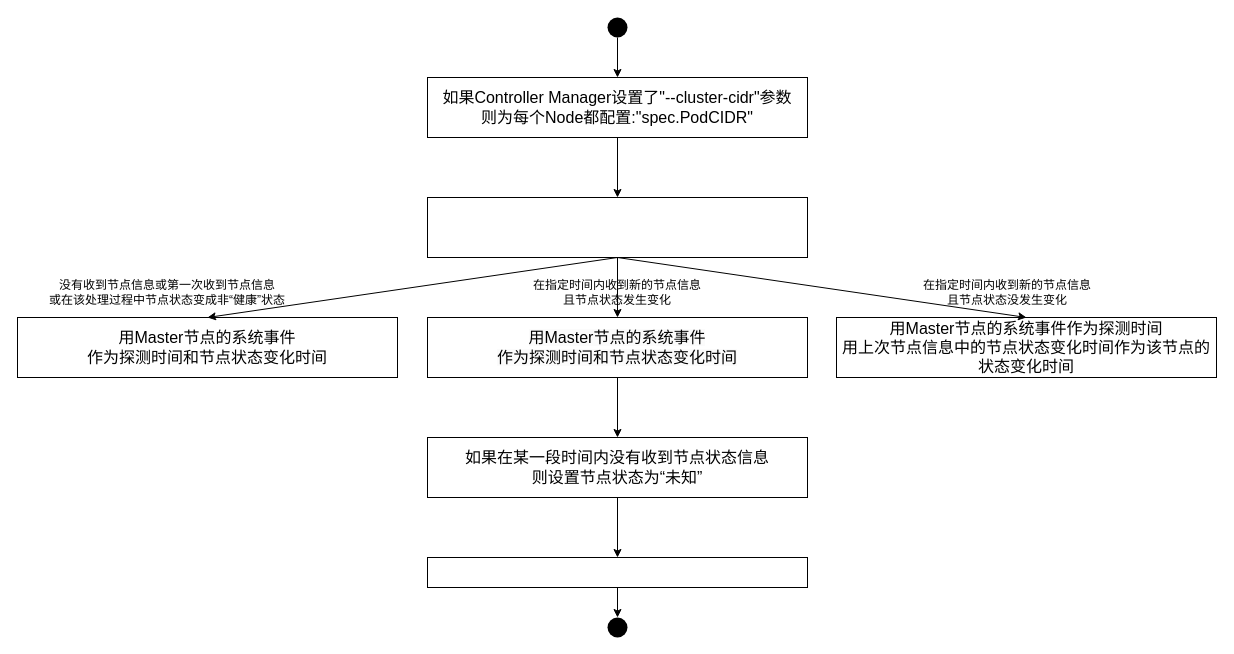
The diagram is 1234 pixels wide and 654 high, and some of its shapes have lost their labels. Each missing label, with the centre of its shape:
"删除节点或同步节点信息" belongs at point 617,572.
"逐个读取Node信息 并和本地nodeStatusMap做比较" belongs at point 617,227.
